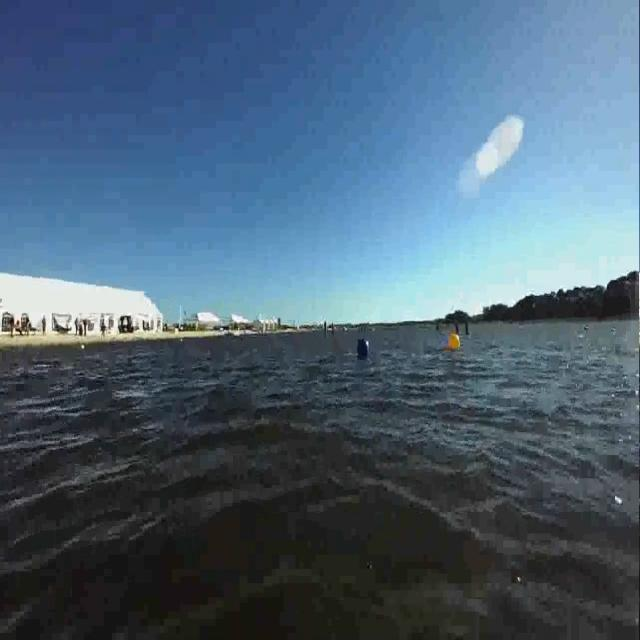blue-buoy: (354, 336, 370, 360)
yellow-buoy: (449, 332, 462, 353)
